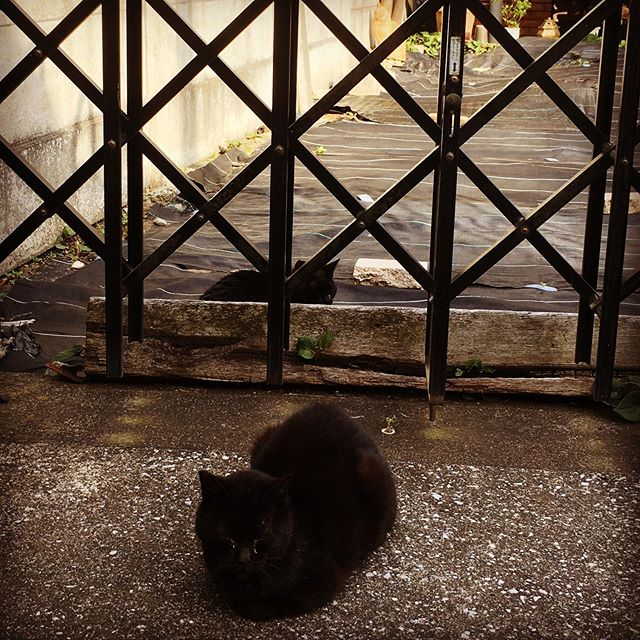animal: (175, 419, 417, 600), (206, 258, 331, 316)
